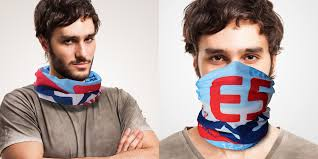mask_weared_incorrect: (50, 32, 104, 90)
with_mask: (200, 42, 271, 103)
